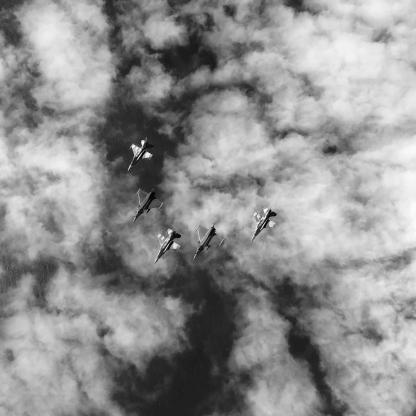F16: (155, 228, 182, 265), (252, 206, 279, 243), (128, 138, 155, 174)
Rafale: (194, 223, 225, 262), (133, 187, 165, 224)
